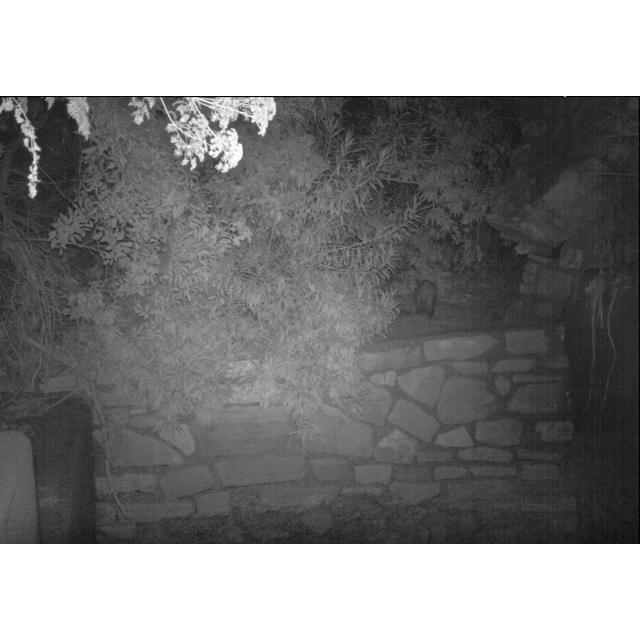animals: (408, 274, 442, 320)
